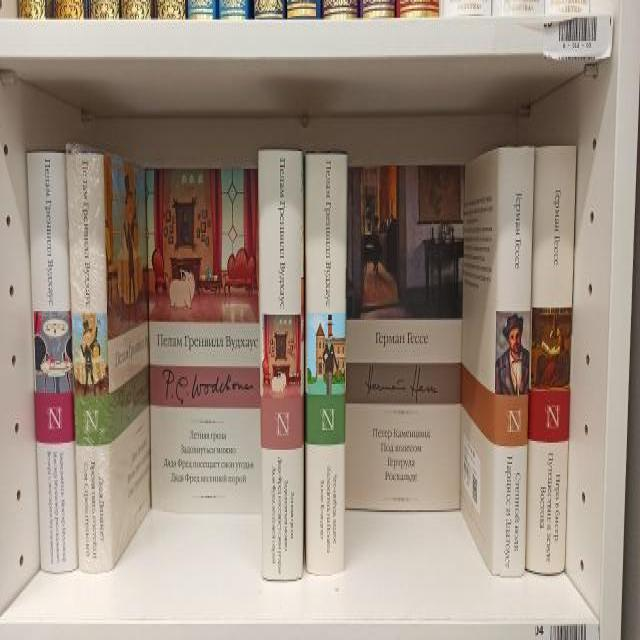book: (528, 146, 577, 576), (28, 153, 76, 574), (67, 150, 111, 570), (259, 150, 302, 577), (493, 148, 535, 576), (305, 155, 346, 576)
